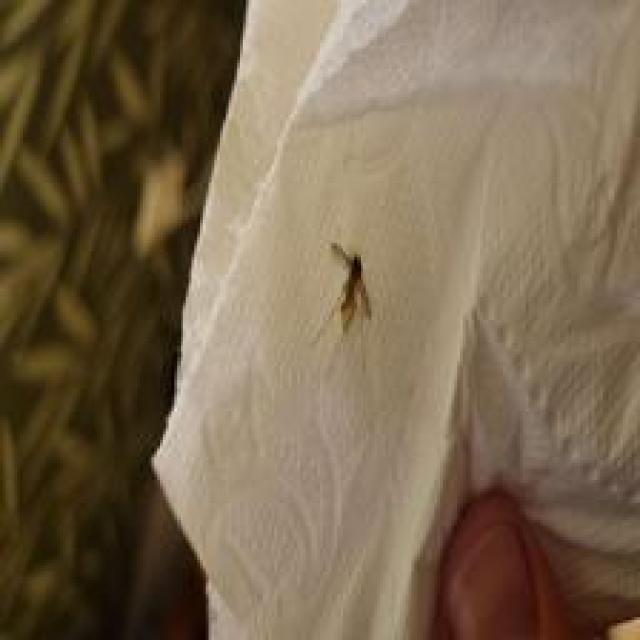Culex: (310, 240, 373, 346)
